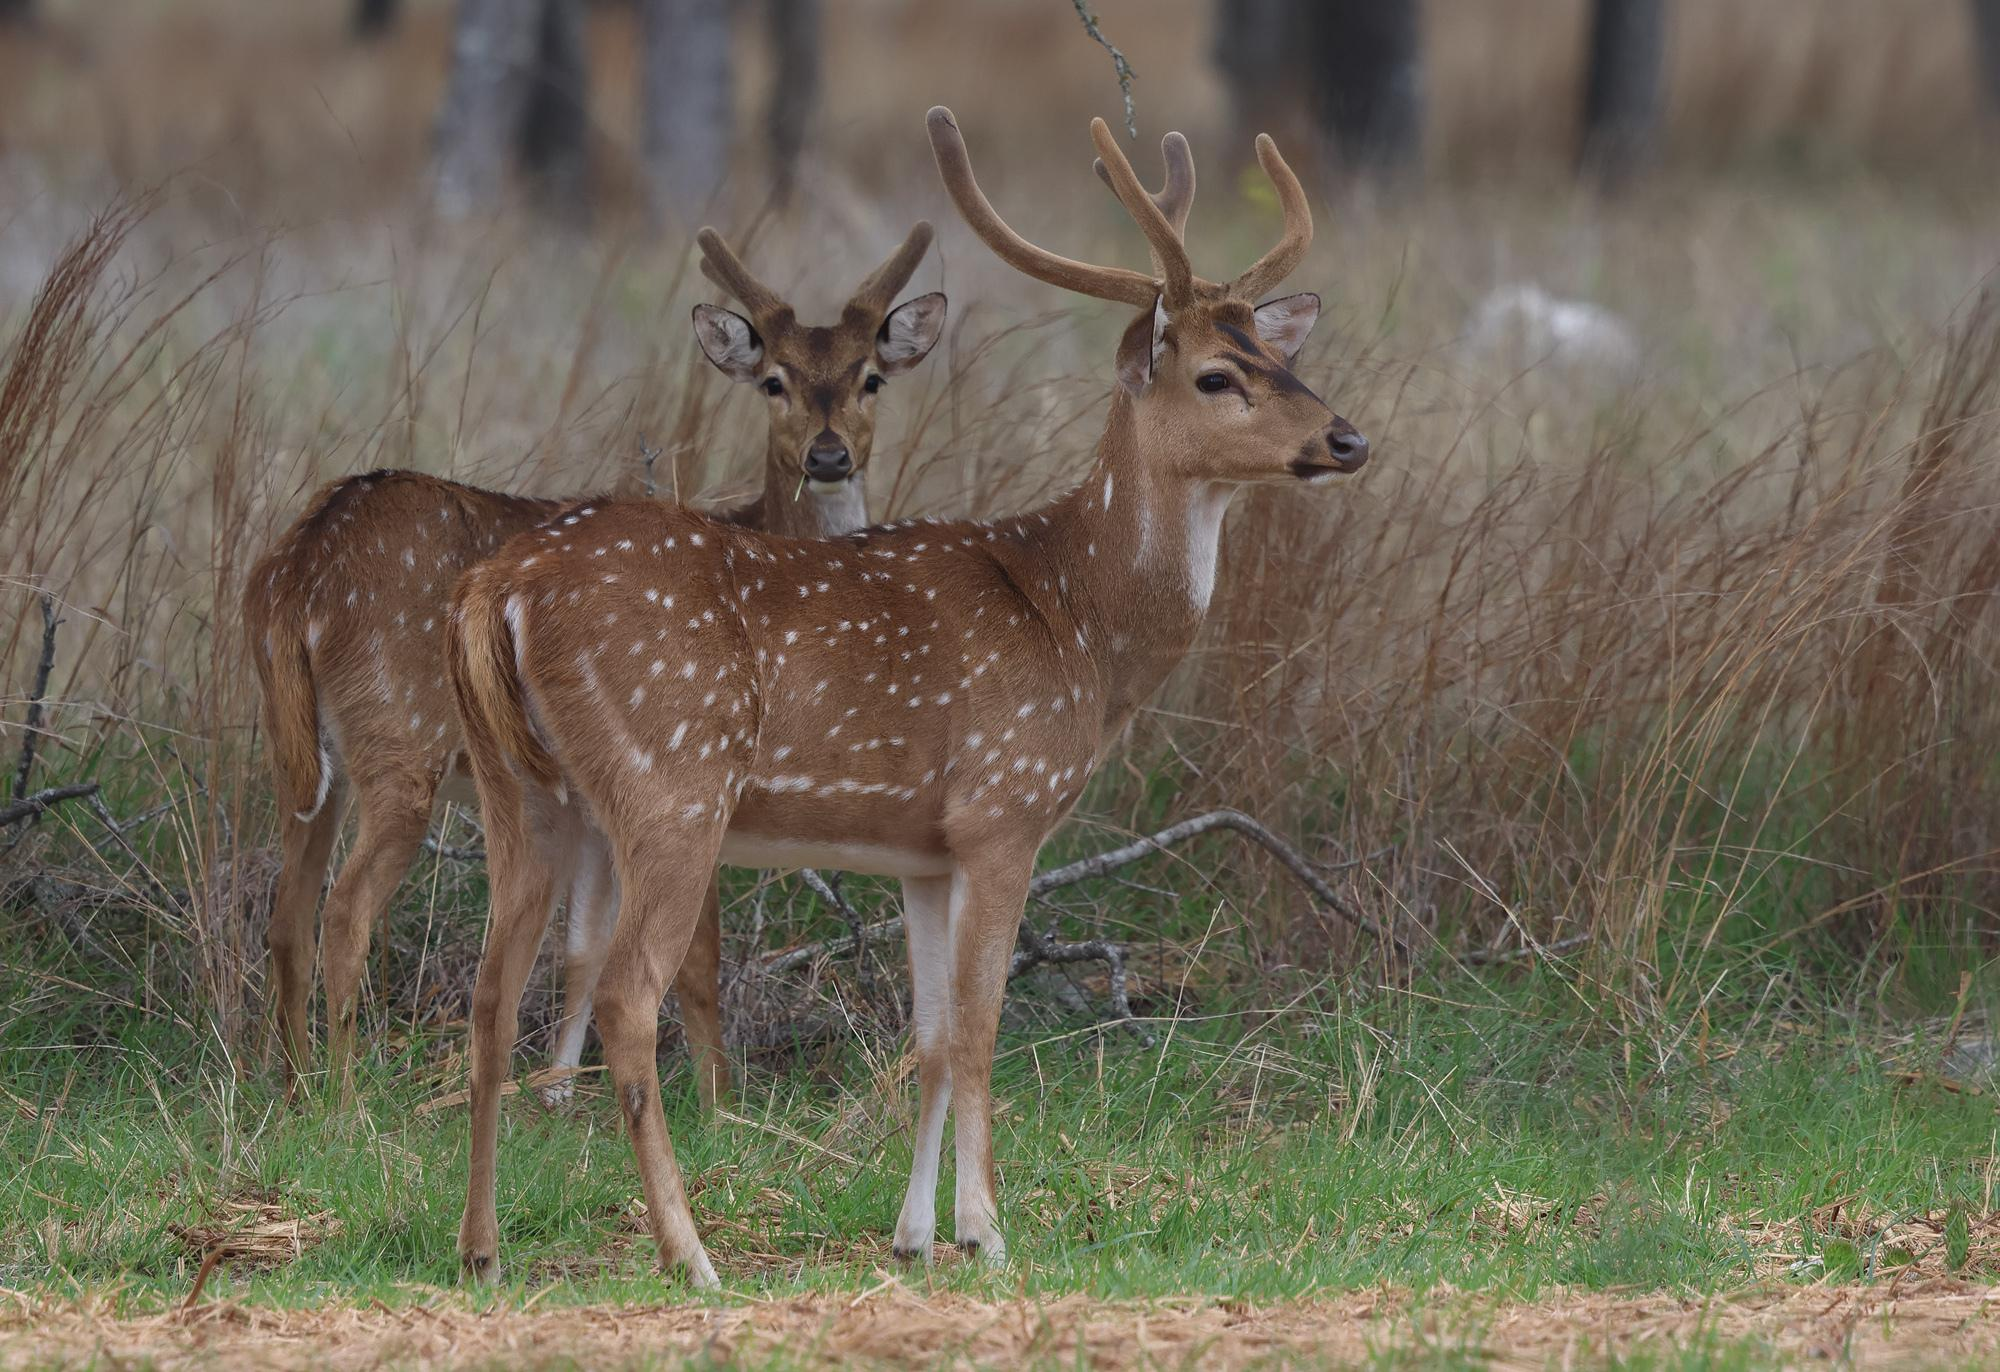Deer: (445, 106, 1369, 1284), (691, 223, 947, 536)
